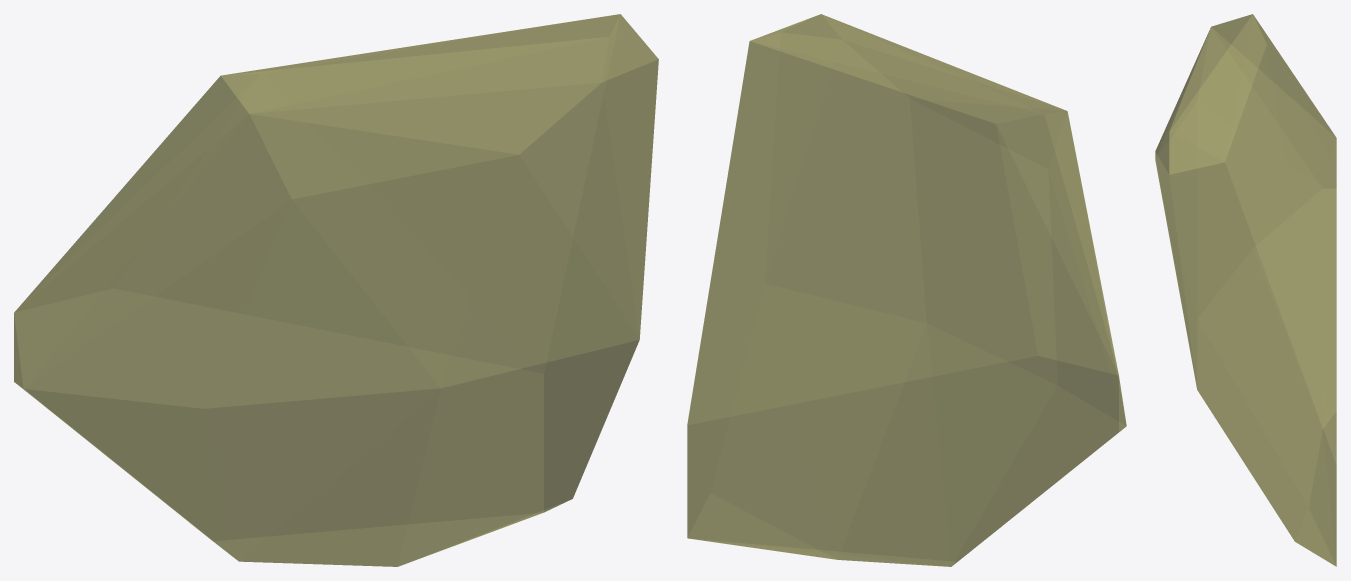
3 renders of one model, left to right at view 1: azimuth 30°, elevation 25°; view 2: azimuth 150°, elevation 25°; view 3: azimuth 270°, elevation 25°, orthographic. The views are drawn at different scales.
Visible parts, largest first — view 1: Shape_IndexedFaceSet.006_Shape_IndexedFaceSet.11427; view 2: Shape_IndexedFaceSet.006_Shape_IndexedFaceSet.11427; view 3: Shape_IndexedFaceSet.006_Shape_IndexedFaceSet.11427.
Boxes of the visible parts, x1,y1,x2,y2 form: Shape_IndexedFaceSet.006_Shape_IndexedFaceSet.11427: [14, 14, 658, 566]; Shape_IndexedFaceSet.006_Shape_IndexedFaceSet.11427: [687, 14, 1126, 566]; Shape_IndexedFaceSet.006_Shape_IndexedFaceSet.11427: [1155, 14, 1336, 566].
Bounding box in the file's own units: 0.0599 × 0.0617 × 0.0243.
